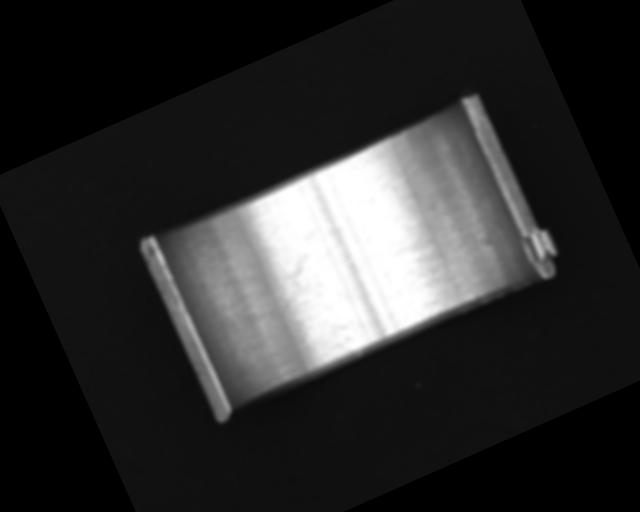blot: (271, 248, 328, 308)
